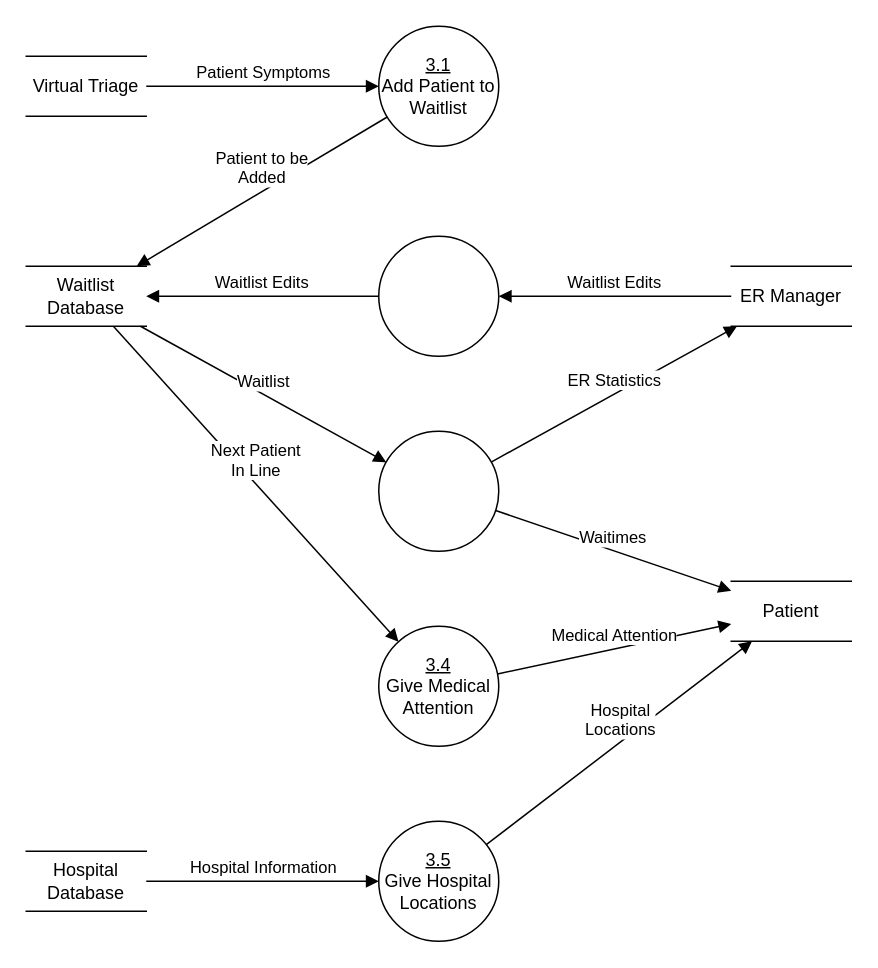
The diagram is 878 pixels wide and 968 high, and some of its shapes have lost their labels. The shapes that lost their labels are listed below. From the top down, each one's box as (x1, y1, x2, y2) in pixels, then its label:
(377, 235, 499, 356): 3.2 Change Waitlist
(377, 430, 499, 551): 3.3 Calculate ER Statistics
